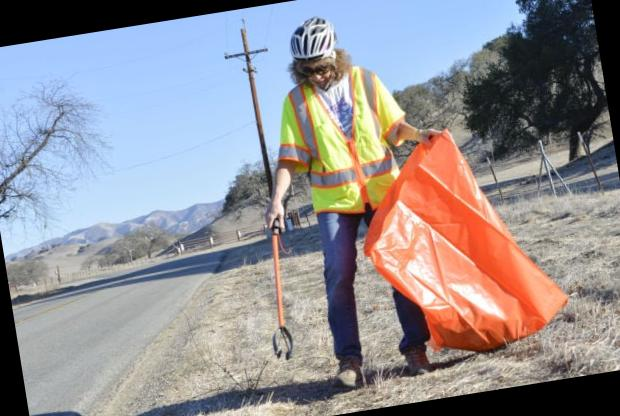road: (77, 336, 620, 416), (13, 251, 225, 415)
sky: (0, 0, 521, 255)
trash: (364, 129, 567, 351)
